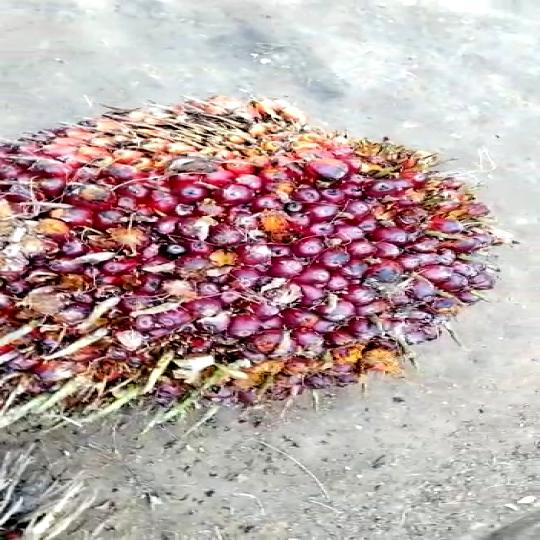masak: (0, 97, 508, 413)
